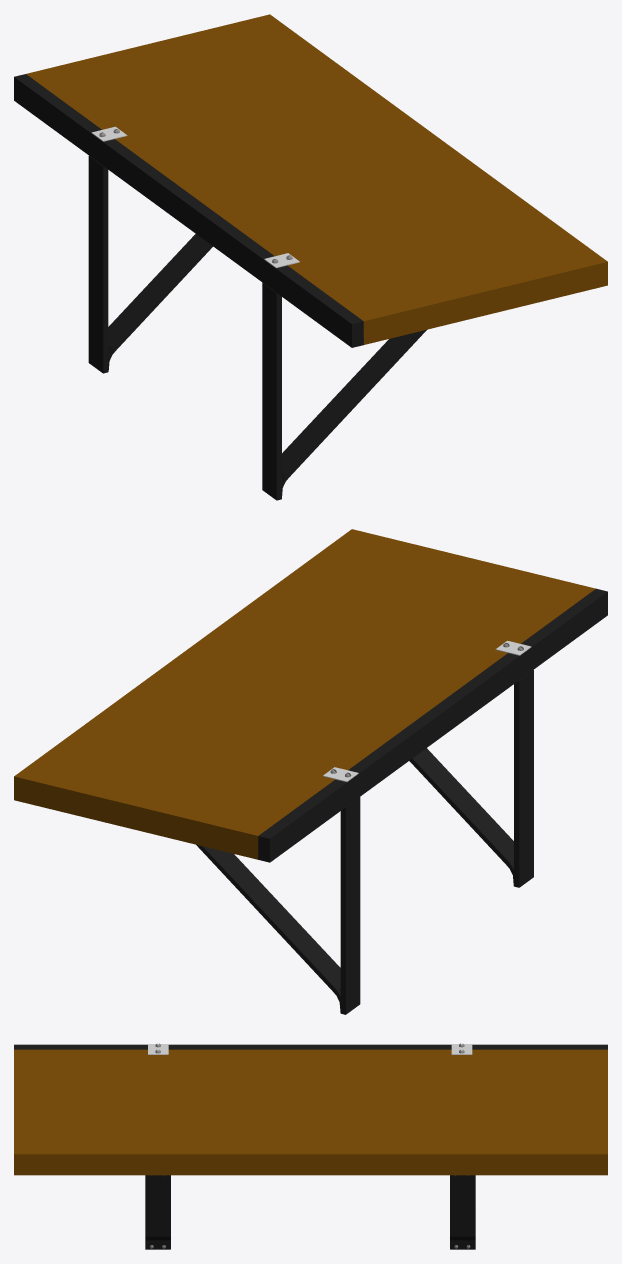
Rendered from WallMountedTable.fbx.
The picture shows the model from 3 angles, top to bottom: view 1: azimuth 30°, elevation 25°; view 2: azimuth 150°, elevation 25°; view 3: azimuth 270°, elevation 25°; orthographic projection. The views are drawn at different scales.
Visible parts, largest first — view 1: MDL_Table, MDL_Wall_End, MDL_Wall_Mount3, MDL_Wall_Mount, pasted__MDL_Wall_Mount2, pasted__MDL_Wall_Mount1; view 2: MDL_Table, MDL_Wall_End, MDL_Wall_Mount3, MDL_Wall_Mount, pasted__MDL_Wall_Mount1, pasted__MDL_Wall_Mount2; view 3: MDL_Table, MDL_Wall_End, pasted__MDL_Wall_Mount1, pasted__MDL_Wall_Mount2.
Part boxes in pixels (x1,y1,x2,y2): MDL_Table: (26, 14, 607, 344); MDL_Wall_End: (14, 74, 363, 347); MDL_Wall_Mount3: (88, 155, 108, 373); MDL_Wall_Mount: (262, 282, 281, 500); pasted__MDL_Wall_Mount2: (282, 329, 426, 495); pasted__MDL_Wall_Mount1: (108, 234, 212, 371); MDL_Table: (14, 529, 595, 859); MDL_Wall_End: (258, 588, 607, 862); MDL_Wall_Mount3: (340, 797, 360, 1014); MDL_Wall_Mount: (514, 670, 533, 887); pasted__MDL_Wall_Mount1: (196, 844, 340, 1012); pasted__MDL_Wall_Mount2: (409, 748, 513, 885); MDL_Table: (14, 1049, 607, 1175); MDL_Wall_End: (14, 1044, 607, 1049); pasted__MDL_Wall_Mount1: (450, 1175, 475, 1249); pasted__MDL_Wall_Mount2: (145, 1175, 170, 1249).
Bounding box in the file's own units: 1.7 × 1.49 × 3.89.
